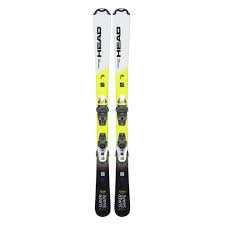skis: (90, 7, 134, 218)
